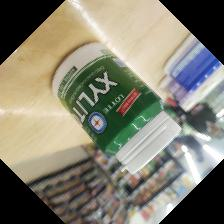Xylitol_green: (50, 40, 183, 176)
